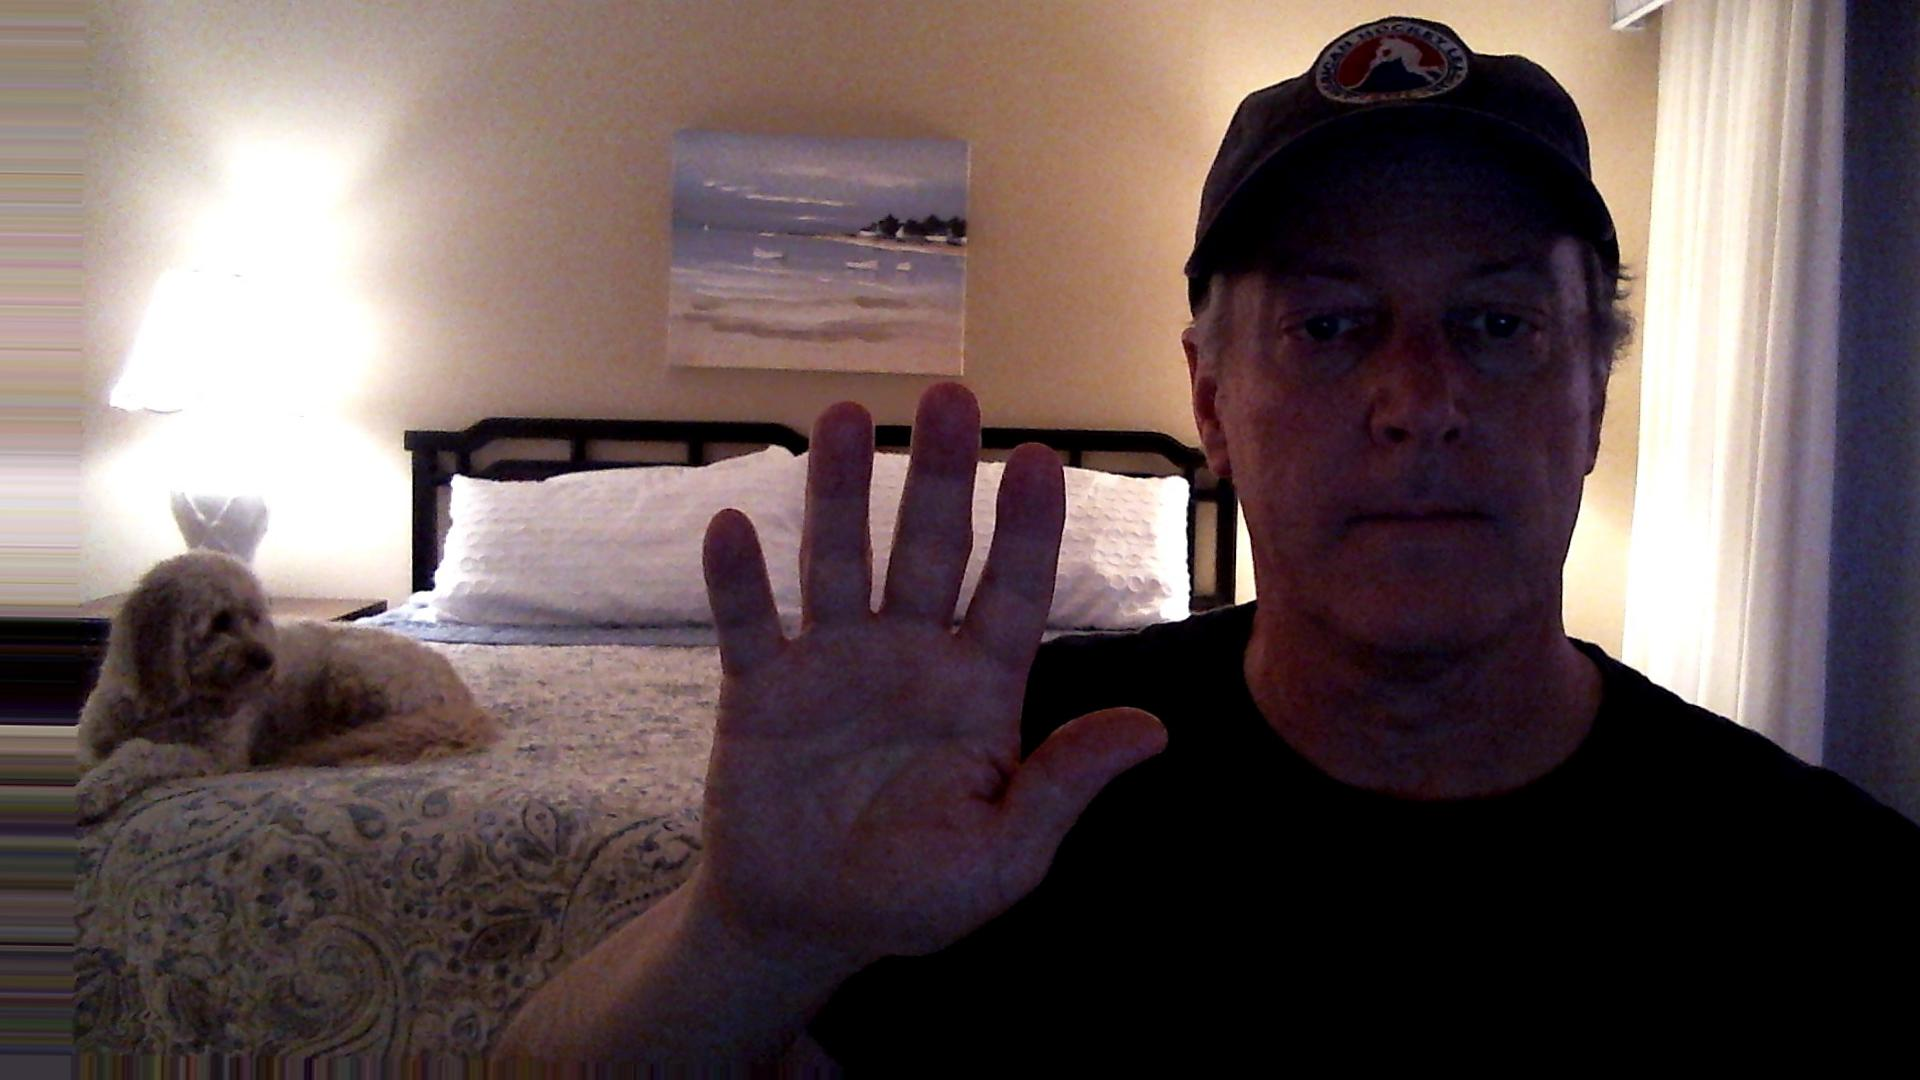Hello: (676, 375, 1195, 956)
